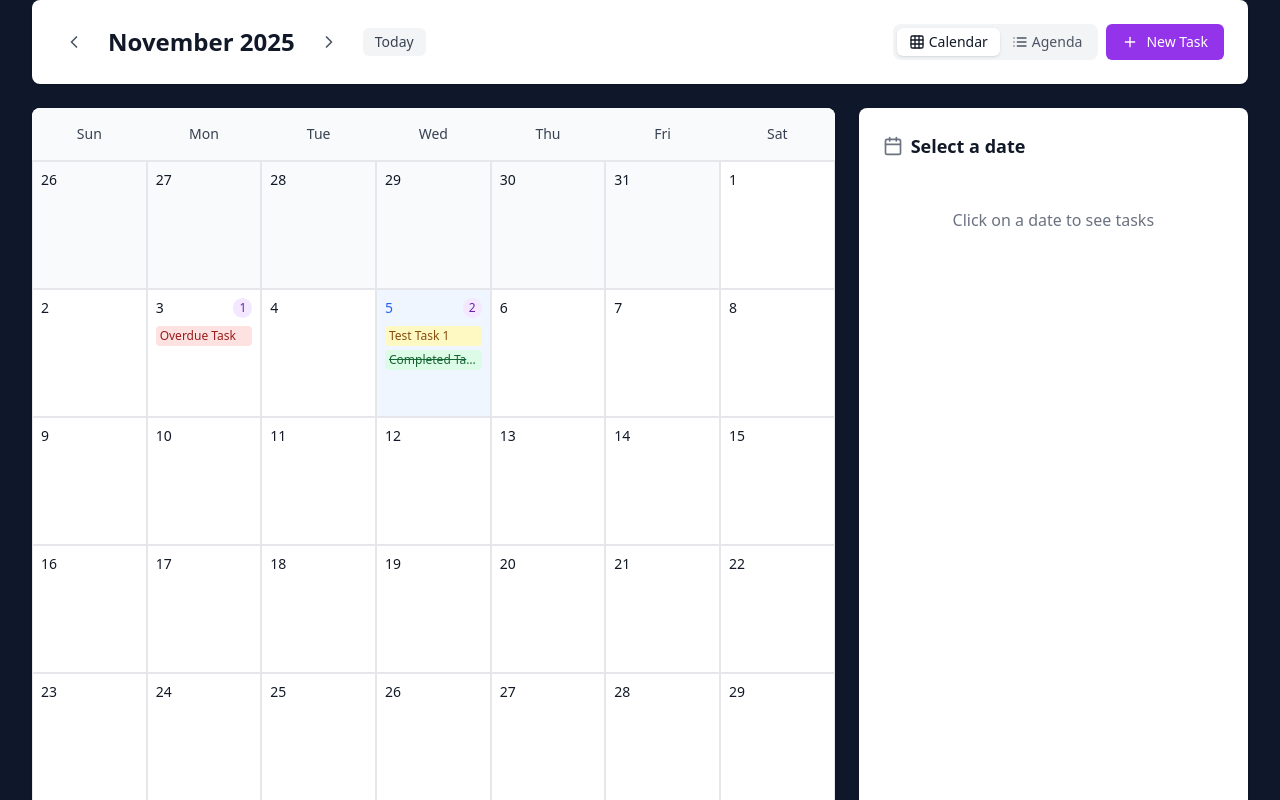
it: TaskCalendar › Navigation › should navigate to previous month
Expected: the heading "November 2025" is shown, [108, 26, 295, 58]
Note: Click the first chevron button (previous month)
Step 1. Click the 1st button → [74, 42], box [56, 24, 92, 60]
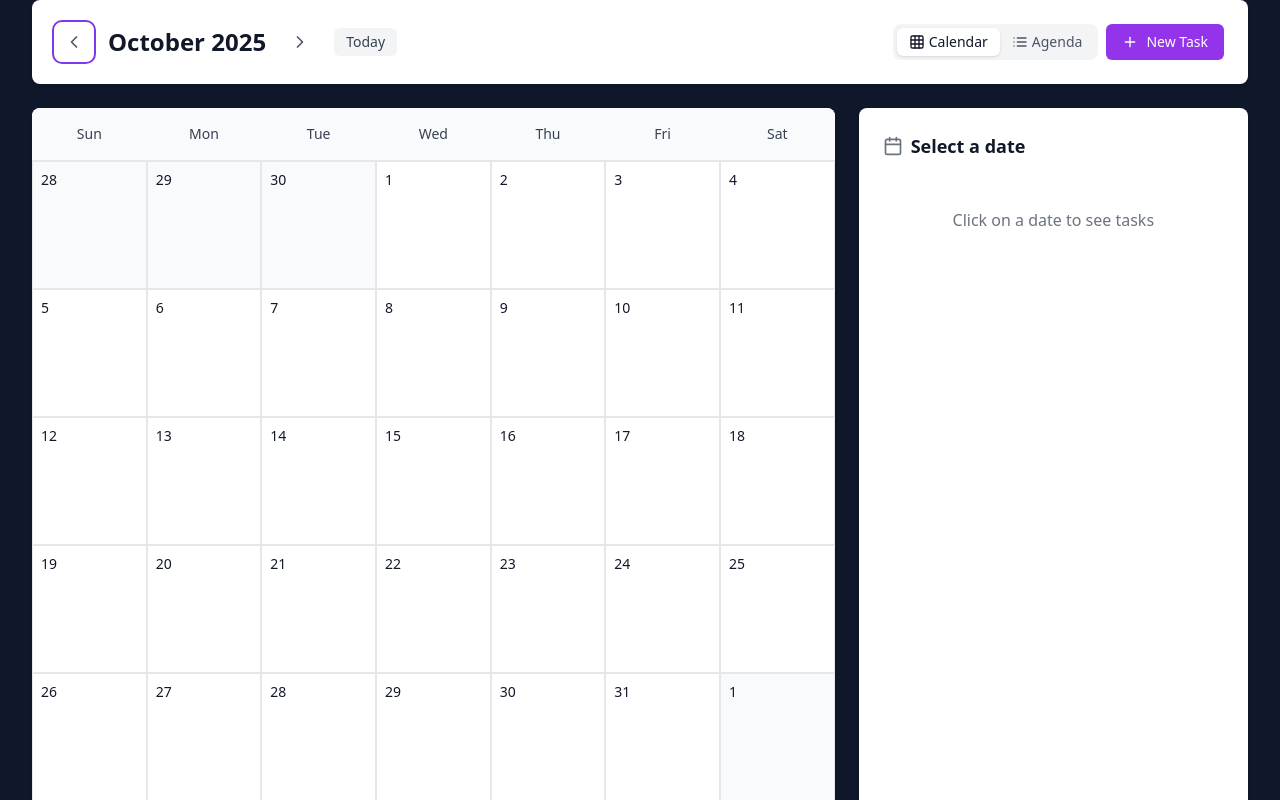
Expected: the heading "October 2025" is shown, [108, 26, 266, 58]
